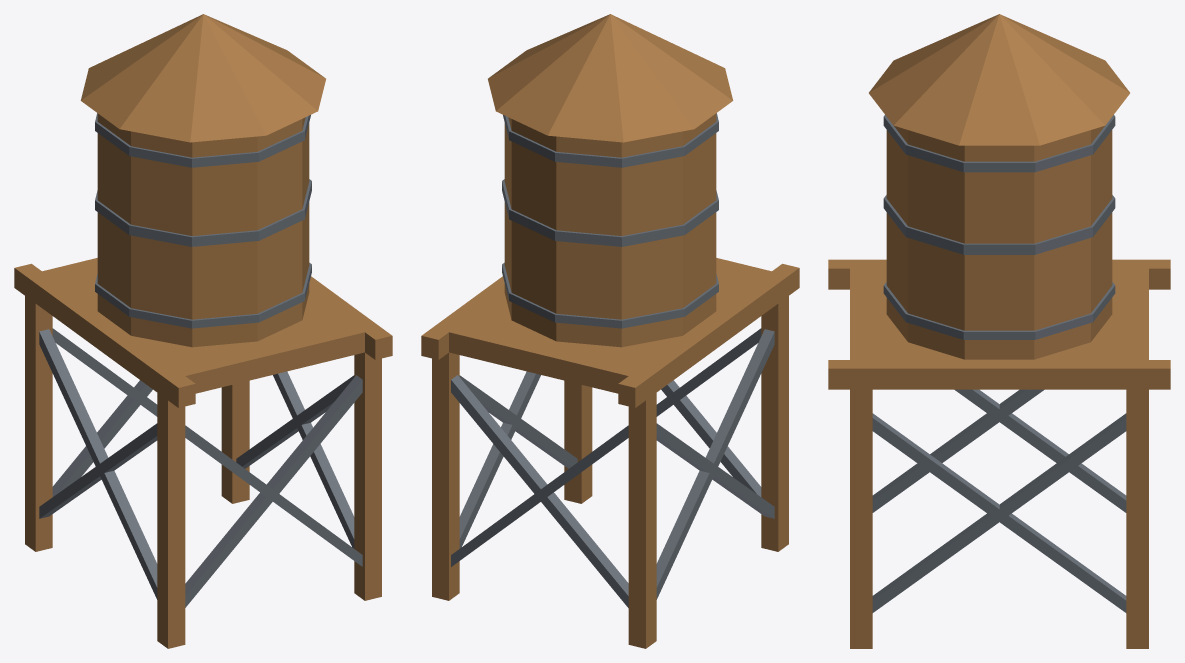
Rendered from Water_Tank.fbx.
The picture shows the model from 3 angles, left to right: view 1: azimuth 30°, elevation 25°; view 2: azimuth 150°, elevation 25°; view 3: azimuth 270°, elevation 25°; orthographic projection. The views are drawn at different scales.
Parts seen in each view (by area): view 1: Water_Tank; view 2: Water_Tank; view 3: Water_Tank.
Boxes of the visible parts, x1,y1,x2,y2 form: Water_Tank: [14, 14, 392, 648]; Water_Tank: [421, 14, 799, 648]; Water_Tank: [828, 14, 1170, 648].
Bounding box in the file's own units: 461 × 1144 × 612.
